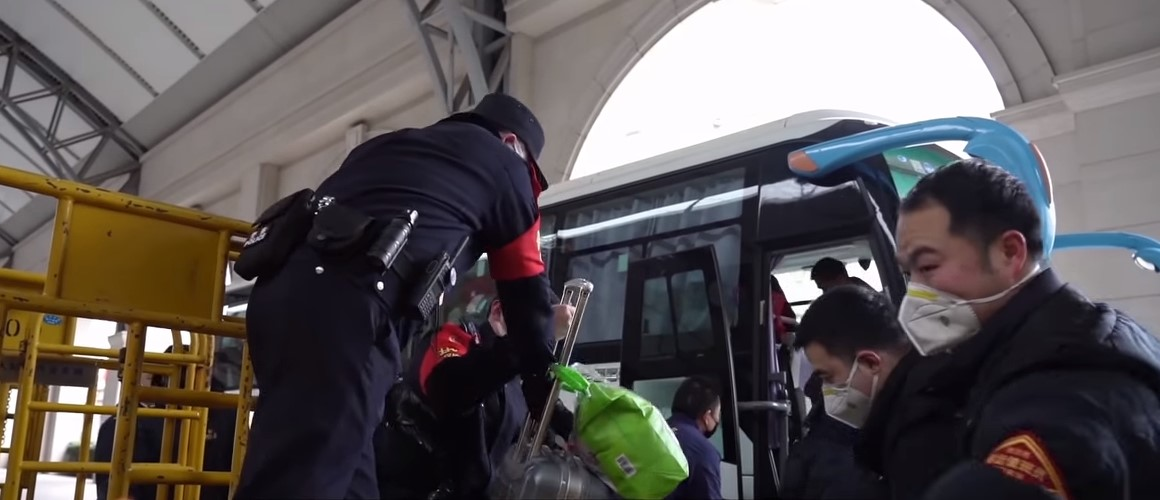face_with_mask: (894, 159, 1036, 361), (796, 288, 899, 438)
